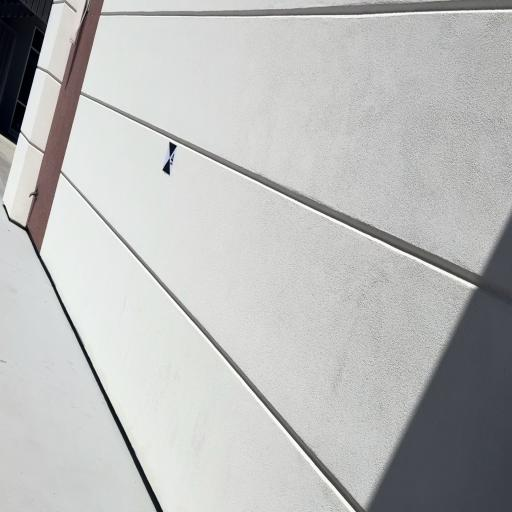target4: (162, 141, 178, 177)
